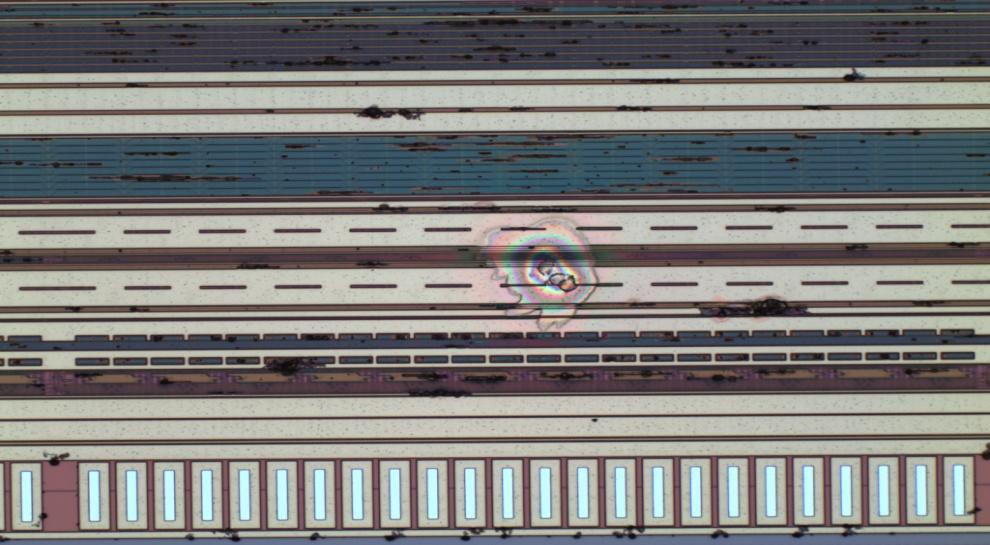PARTICLE: (479, 205, 611, 337)
